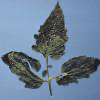Tomato Septoria leaf spot: (29, 2, 69, 61), (2, 51, 46, 91), (53, 54, 100, 88)
